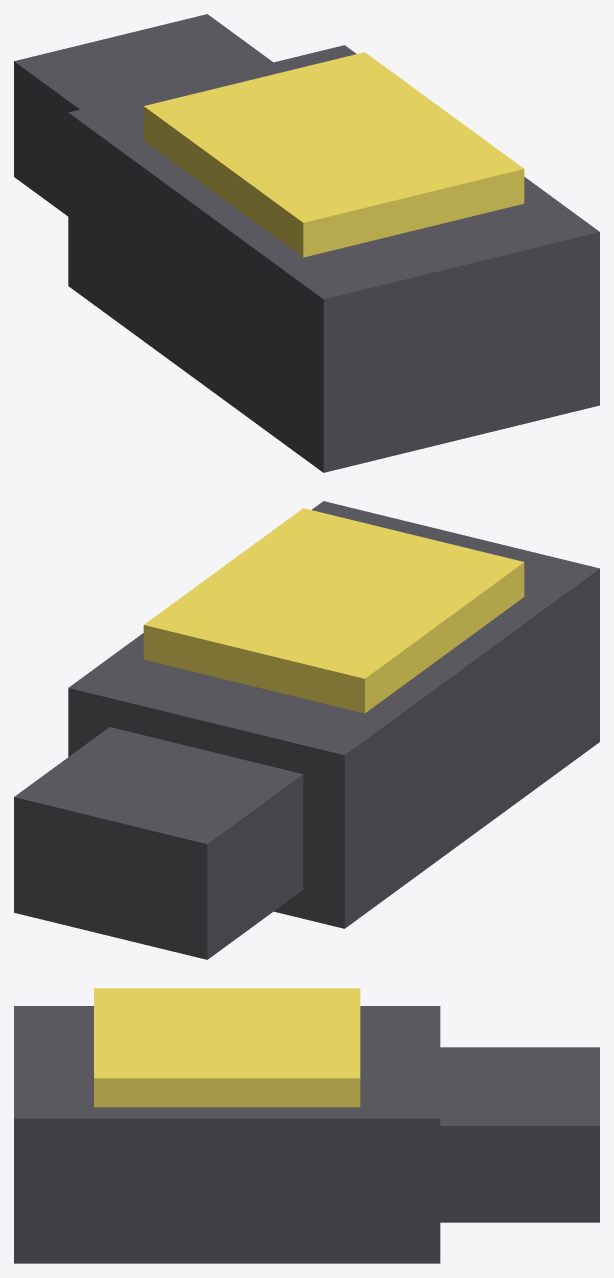
File: sata-plug.glb
3 renders of one model, top to bottom at view 1: azimuth 30°, elevation 25°; view 2: azimuth 150°, elevation 25°; view 3: azimuth 270°, elevation 25°, orthographic. The views are drawn at different scales.
Visible parts, largest first — view 1: c1b1b1f, cffd21f; view 2: c1b1b1f, cffd21f; view 3: c1b1b1f, cffd21f.
Part boxes in pixels (x1,y1,x2,y2): c1b1b1f: (14, 14, 599, 472); cffd21f: (143, 52, 524, 257); c1b1b1f: (14, 501, 599, 959); cffd21f: (143, 508, 524, 713); c1b1b1f: (14, 1006, 599, 1263); cffd21f: (94, 988, 360, 1107).
Size of the model in its own units: 10 by 7.2 by 22.
